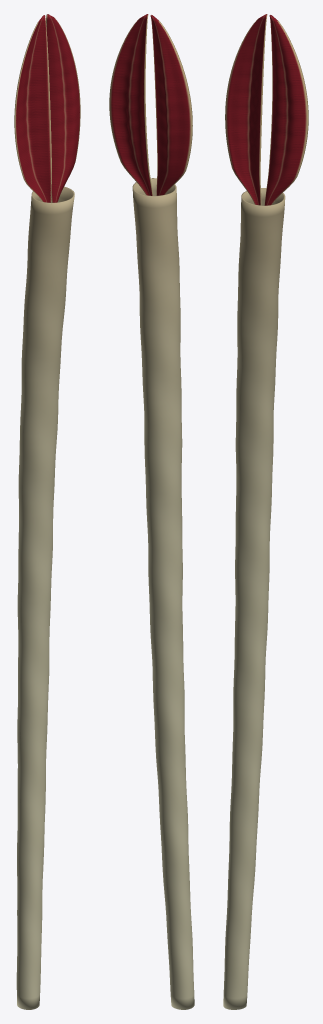
Rendered from NEW689_Tubeworm_LOD0.glb.
3 renders of one model, left to right at view 1: azimuth 30°, elevation 25°; view 2: azimuth 150°, elevation 25°; view 3: azimuth 330°, elevation 25°, orthographic.
Visible parts, largest first — view 1: Protective_tube, Branchial_lamella_left, Branchial_lamella_right; view 2: Protective_tube, Branchial_lamella_right, Branchial_lamella_left; view 3: Protective_tube, Branchial_lamella_left, Branchial_lamella_right.
Boxes of the visible parts, <box> form: Protective_tube: <box>16,186,74,1009</box>; Branchial_lamella_left: <box>14,15,51,202</box>; Branchial_lamella_right: <box>46,14,80,202</box>; Protective_tube: <box>132,178,194,1009</box>; Branchial_lamella_right: <box>109,14,153,195</box>; Branchial_lamella_left: <box>150,15,192,195</box>; Protective_tube: <box>223,188,285,1009</box>; Branchial_lamella_left: <box>225,14,267,205</box>; Branchial_lamella_right: <box>264,15,308,205</box>.
Size of the model in its own units: 0.0888 by 1.13 by 0.0492.
Materials: 3 (3 with a texture image).
